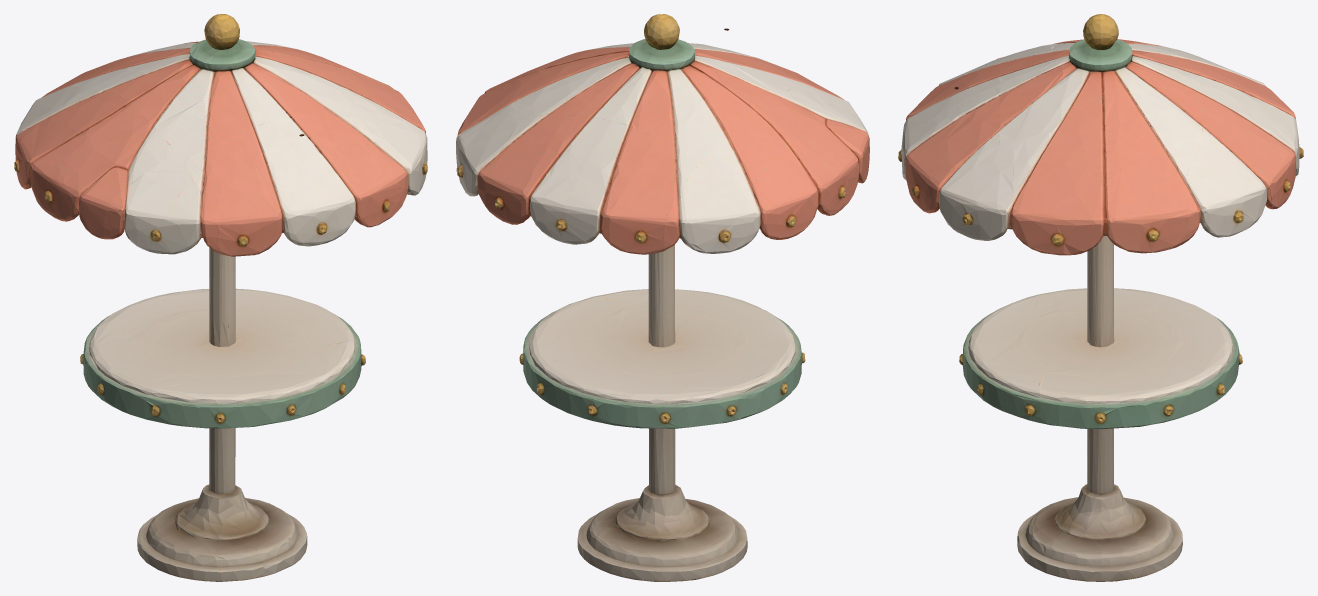
The model's file is 12-umbrella-table.glb.
3 views of the same model, side by side, from view 1: azimuth 30°, elevation 25°; view 2: azimuth 150°, elevation 25°; view 3: azimuth 270°, elevation 25° (orthographic).
Size of the model in its own units: 0.703 by 0.999 by 0.6913.
Materials: 1 (1 with a texture image).
